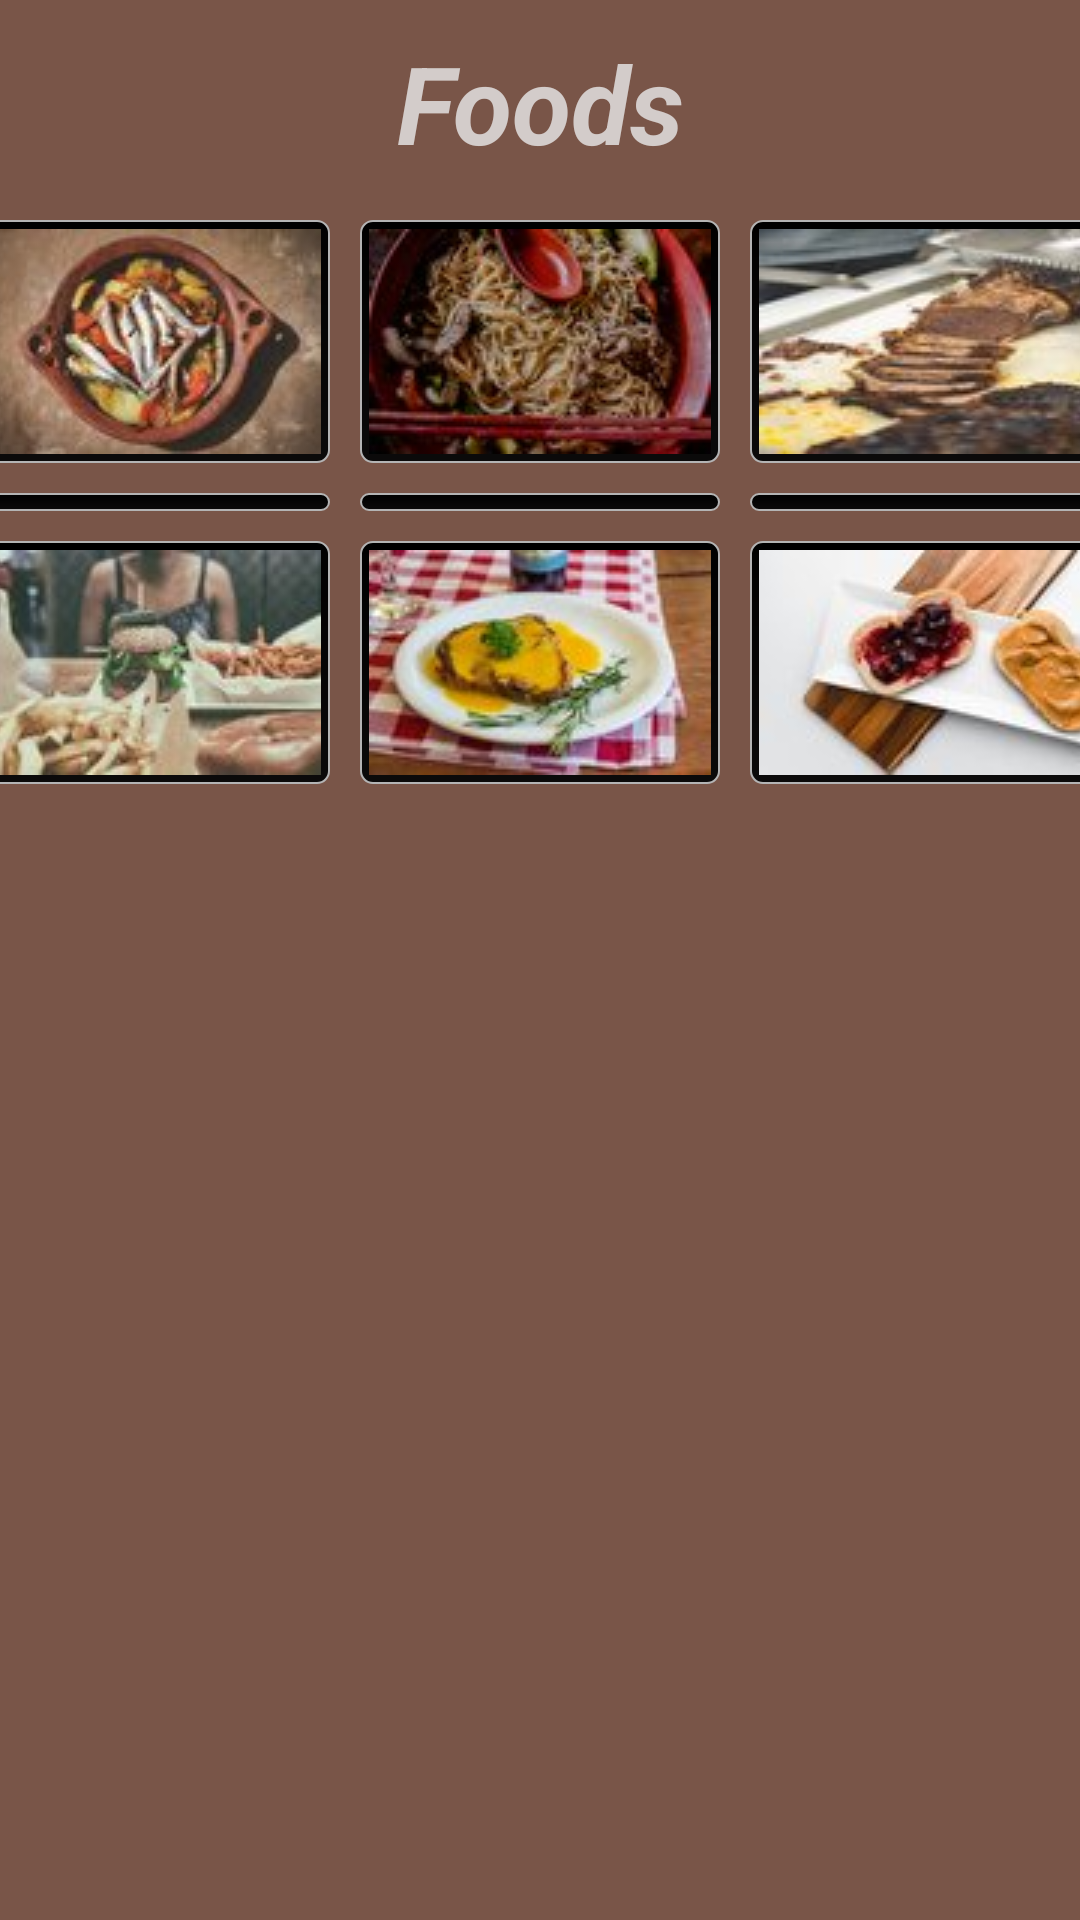

Icon click points for this 1080 x 1920 phone screenshot, format (x,y):
Hamburger and French fries: (165,662)
